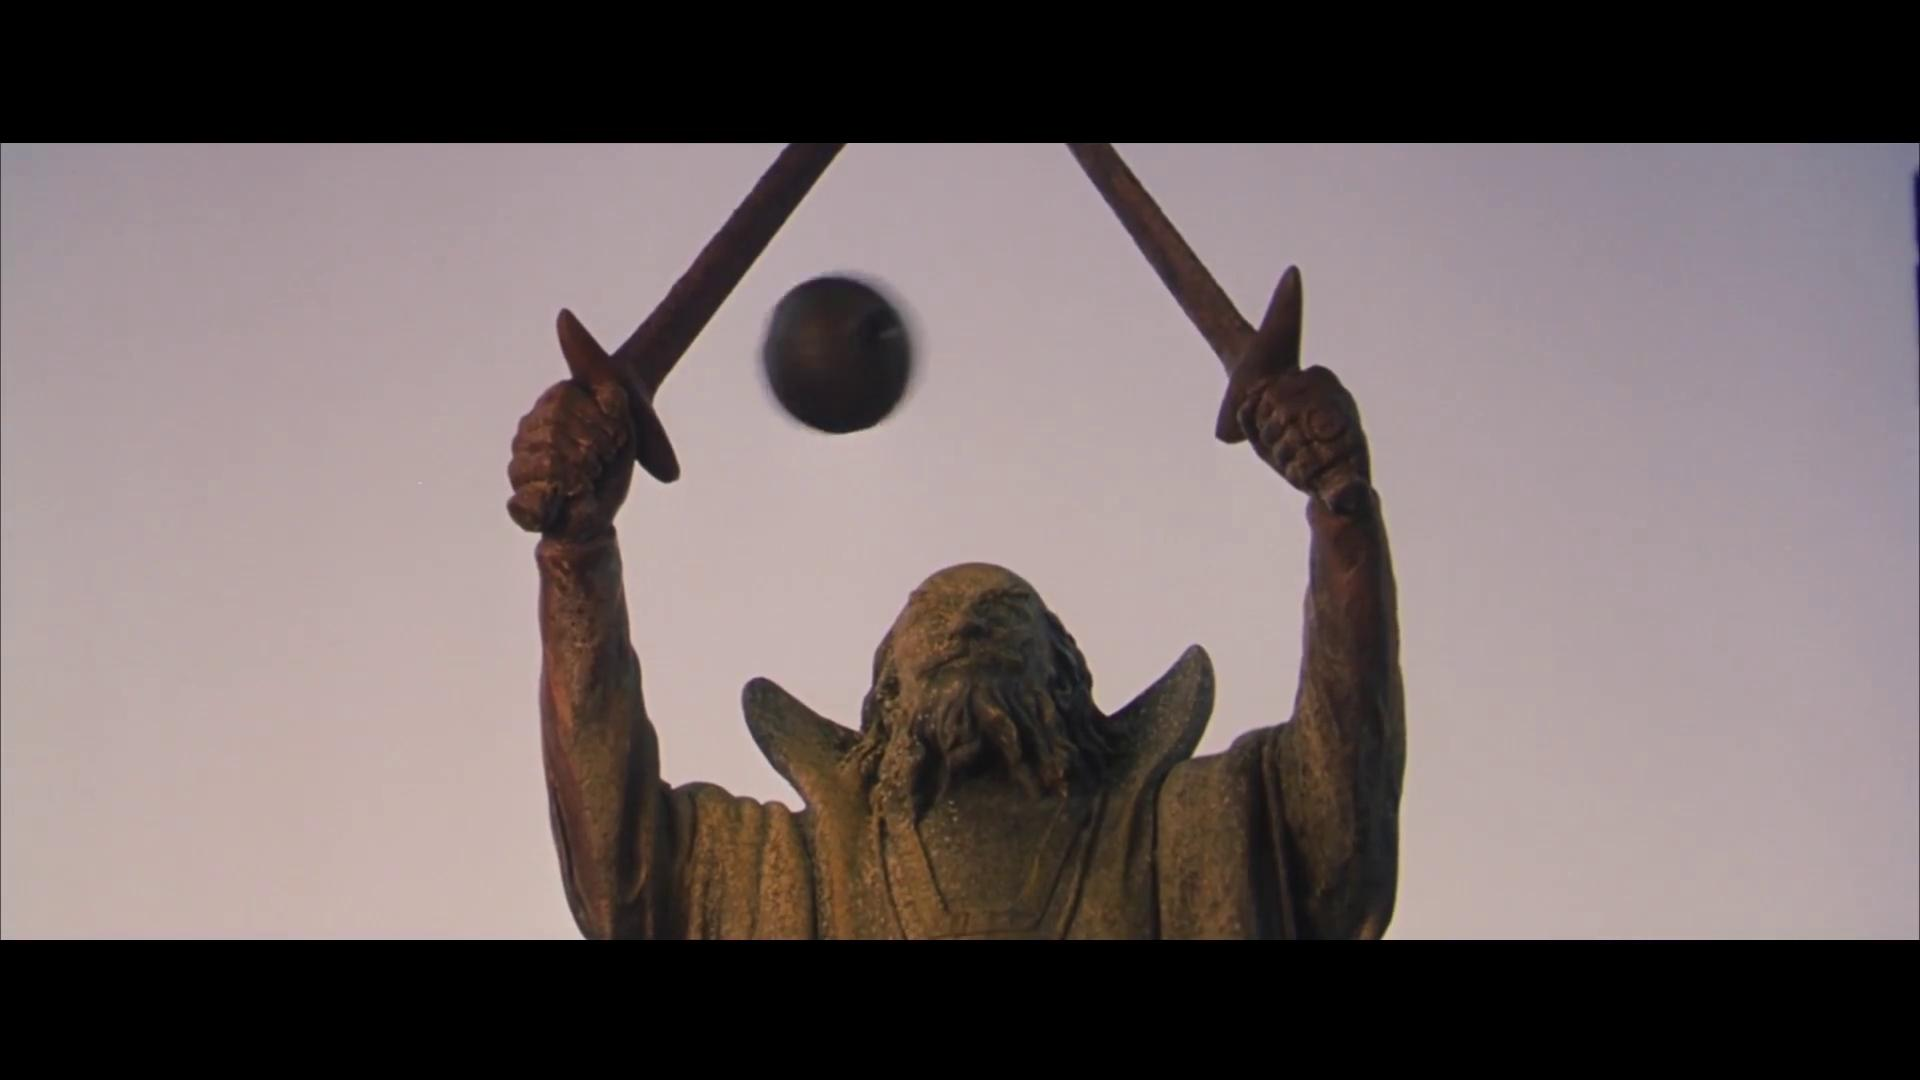bludger: (761, 272, 916, 435)
